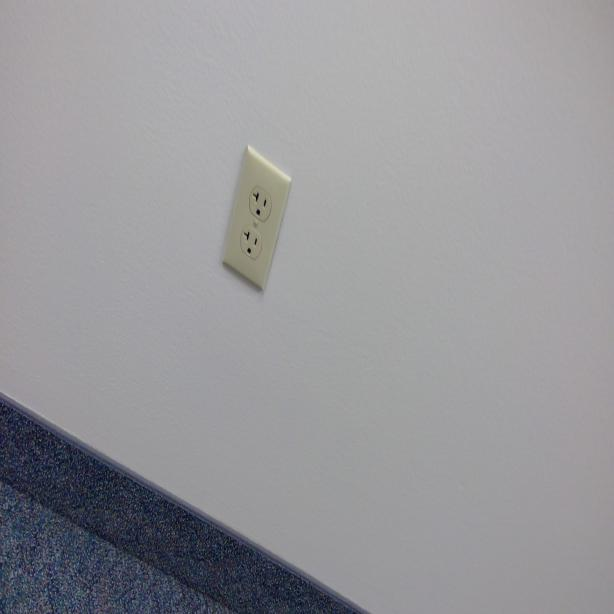typeb: (246, 184, 269, 221), (240, 224, 261, 258)
